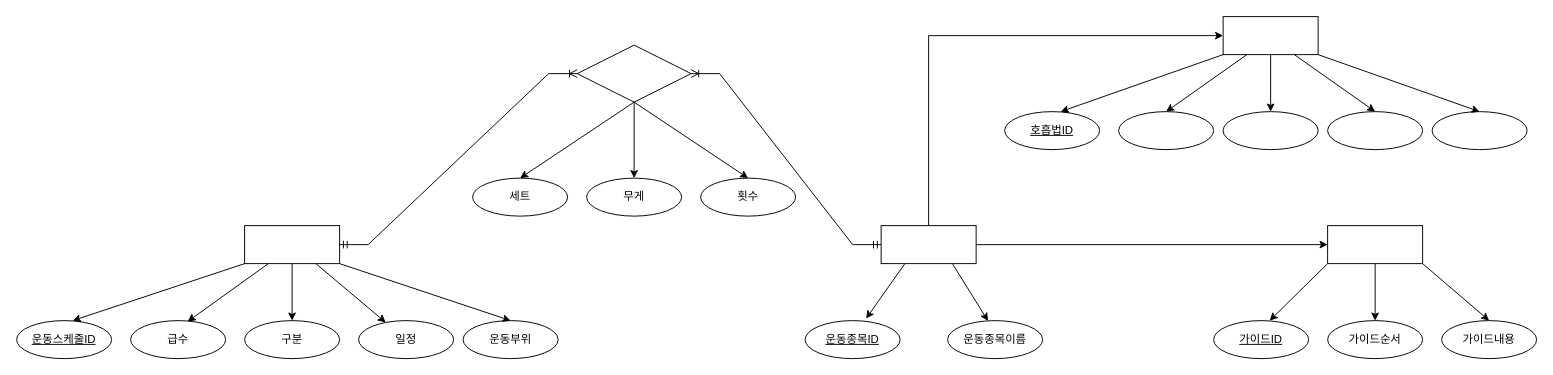
Some shapes in this 1553 by 375 pixel diagram are drawn without their labels. The shapes that lost their labels are listed below. From the top down, each one's centre as x and y in pixels, then its label:
At (1270,35): "호흡법".
At (633,73): "스케줄별 운동종목".
At (292,244): "운동스케줄".
At (928,244): "운동종목".
At (1375,244): "운동가이드".
